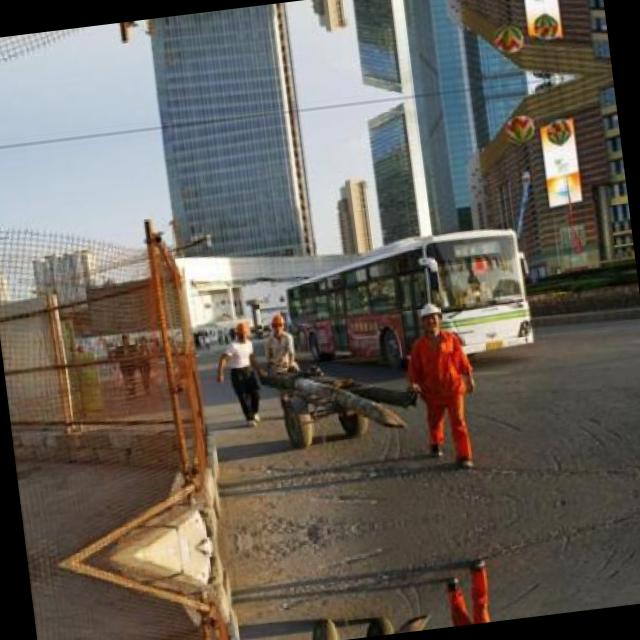helmet: (412, 299, 444, 333), (266, 313, 290, 337), (227, 318, 251, 340)
